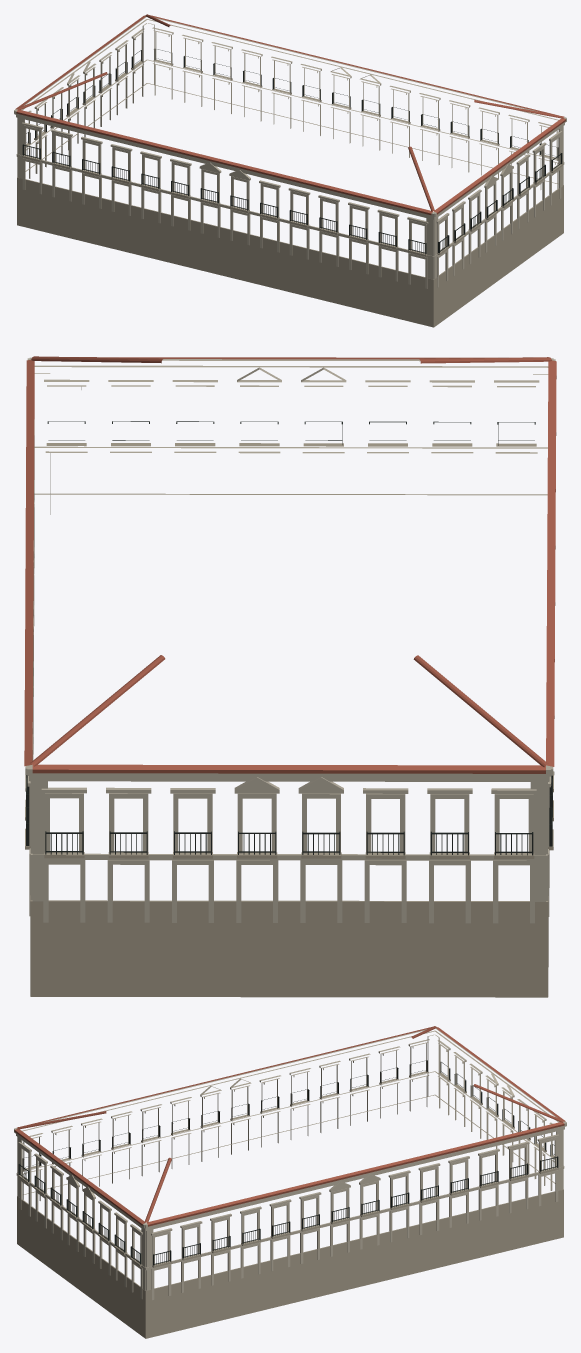
3 renders of one model, top to bottom at view 1: azimuth 30°, elevation 25°; view 2: azimuth 150°, elevation 25°; view 3: azimuth 270°, elevation 25°, orthographic. The views are drawn at different scales.
Visible parts, largest first — view 1: detail; view 2: detail; view 3: detail.
Part boxes in pixels (<box>): detail: <box>14,14,566,327</box>; detail: <box>24,356,556,997</box>; detail: <box>14,1026,566,1338</box>.
Size of the model in its own units: 36.78 by 12.34 by 43.21.
